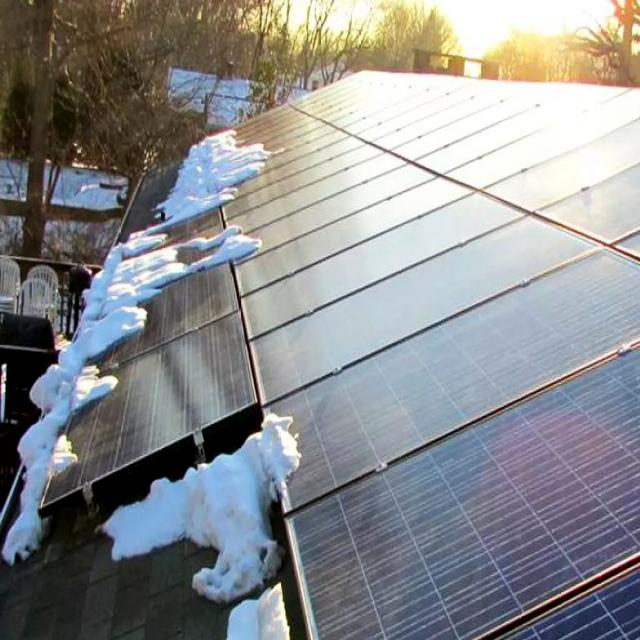panel: (132, 232, 256, 285), (216, 126, 282, 214), (51, 346, 138, 404), (78, 284, 168, 340), (268, 390, 308, 510), (155, 150, 203, 242), (22, 430, 91, 478)
